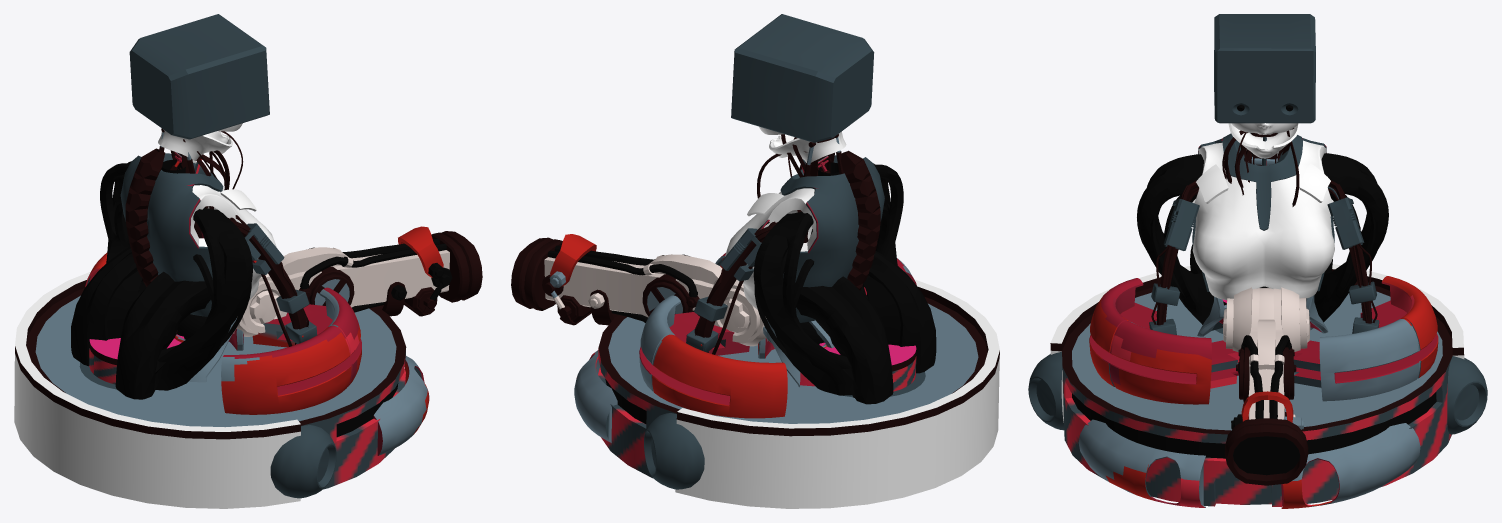
The model's file is боссс.fbx_Scene.fbx.
3 renders of one model, left to right at view 1: azimuth 30°, elevation 25°; view 2: azimuth 150°, elevation 25°; view 3: azimuth 270°, elevation 25°, orthographic. The views are drawn at different scales.
Parts seen in each view (by area): view 1: Цилиндр.002; view 2: Цилиндр.002; view 3: Цилиндр.002.
Boxes of the visible parts, <box> form: Цилиндр.002: <box>14,14,482,508</box>; Цилиндр.002: <box>511,14,999,508</box>; Цилиндр.002: <box>1028,14,1487,508</box>.
Size of the model in its own units: 1119 by 967 by 1012.
3 materials, 1 textured.
